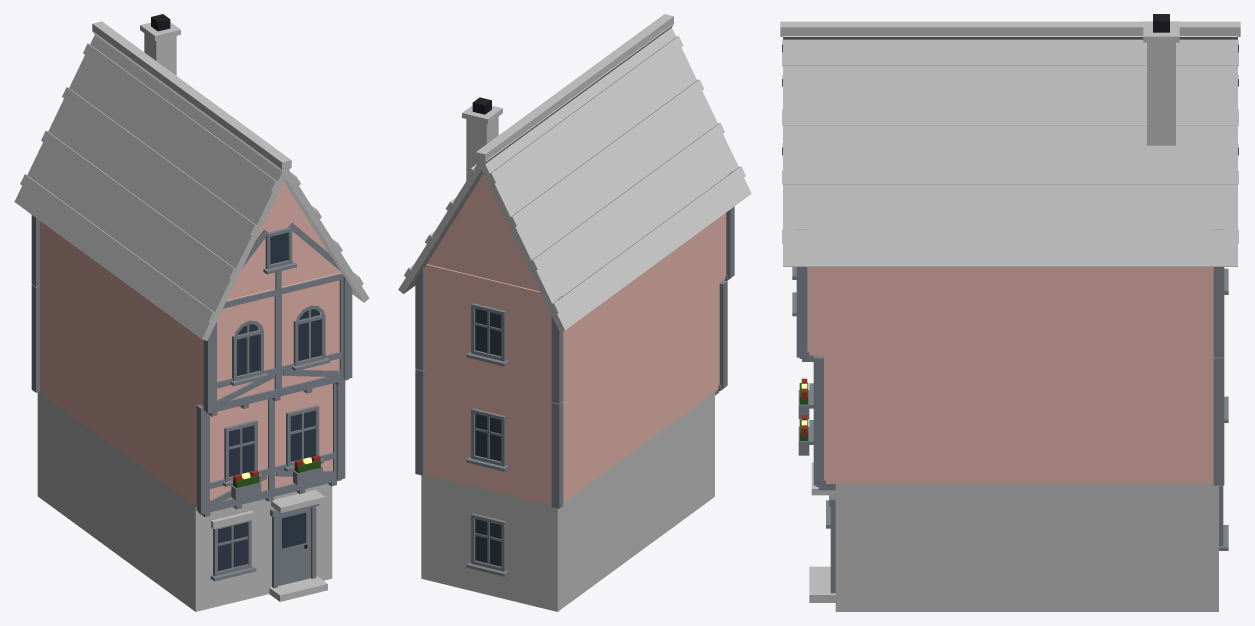
File: narrow_house.gltf
3 renders of one model, left to right at view 1: azimuth 30°, elevation 25°; view 2: azimuth 150°, elevation 25°; view 3: azimuth 270°, elevation 25°, orthographic. The views are drawn at different scales.
Visible parts, largest first — view 1: narrow_house; view 2: narrow_house; view 3: narrow_house.
Boxes of the visible parts, left/top/right/bottom form: narrow_house: left=14, top=14, right=369, bottom=611; narrow_house: left=398, top=14, right=751, bottom=611; narrow_house: left=780, top=14, right=1240, bottom=611.
Size of the model in its own units: 4.9 by 13.17 by 9.6.
